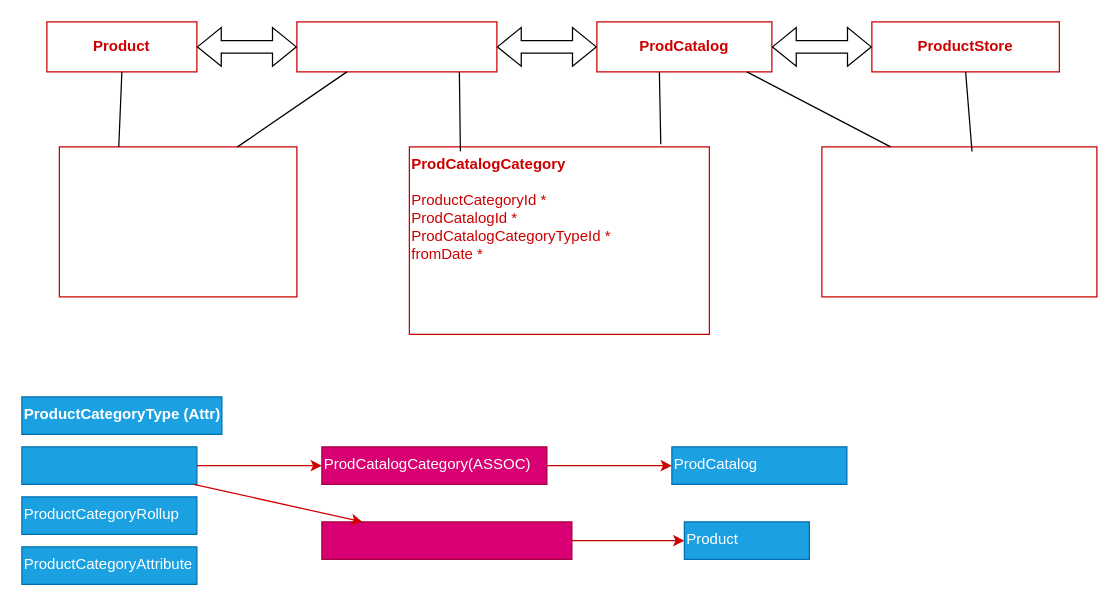
Image size: 1119x606. Some labels were removed from this diagram. The shapes that lost their labels are listed below. From the top down, each one's centre as x and y in pixels, then its label:
the point at 396,46: Product_Category
the point at 177,221: Product_Category_Member ProductId * ProductCategoryId * fromDate *
the point at 959,221: ProductStoreCatalog ProductStoreId * ProdCatalogId * fromDate
the point at 109,465: ProductCategory
the point at 446,540: ProductCategoryMember(ASSOC)
